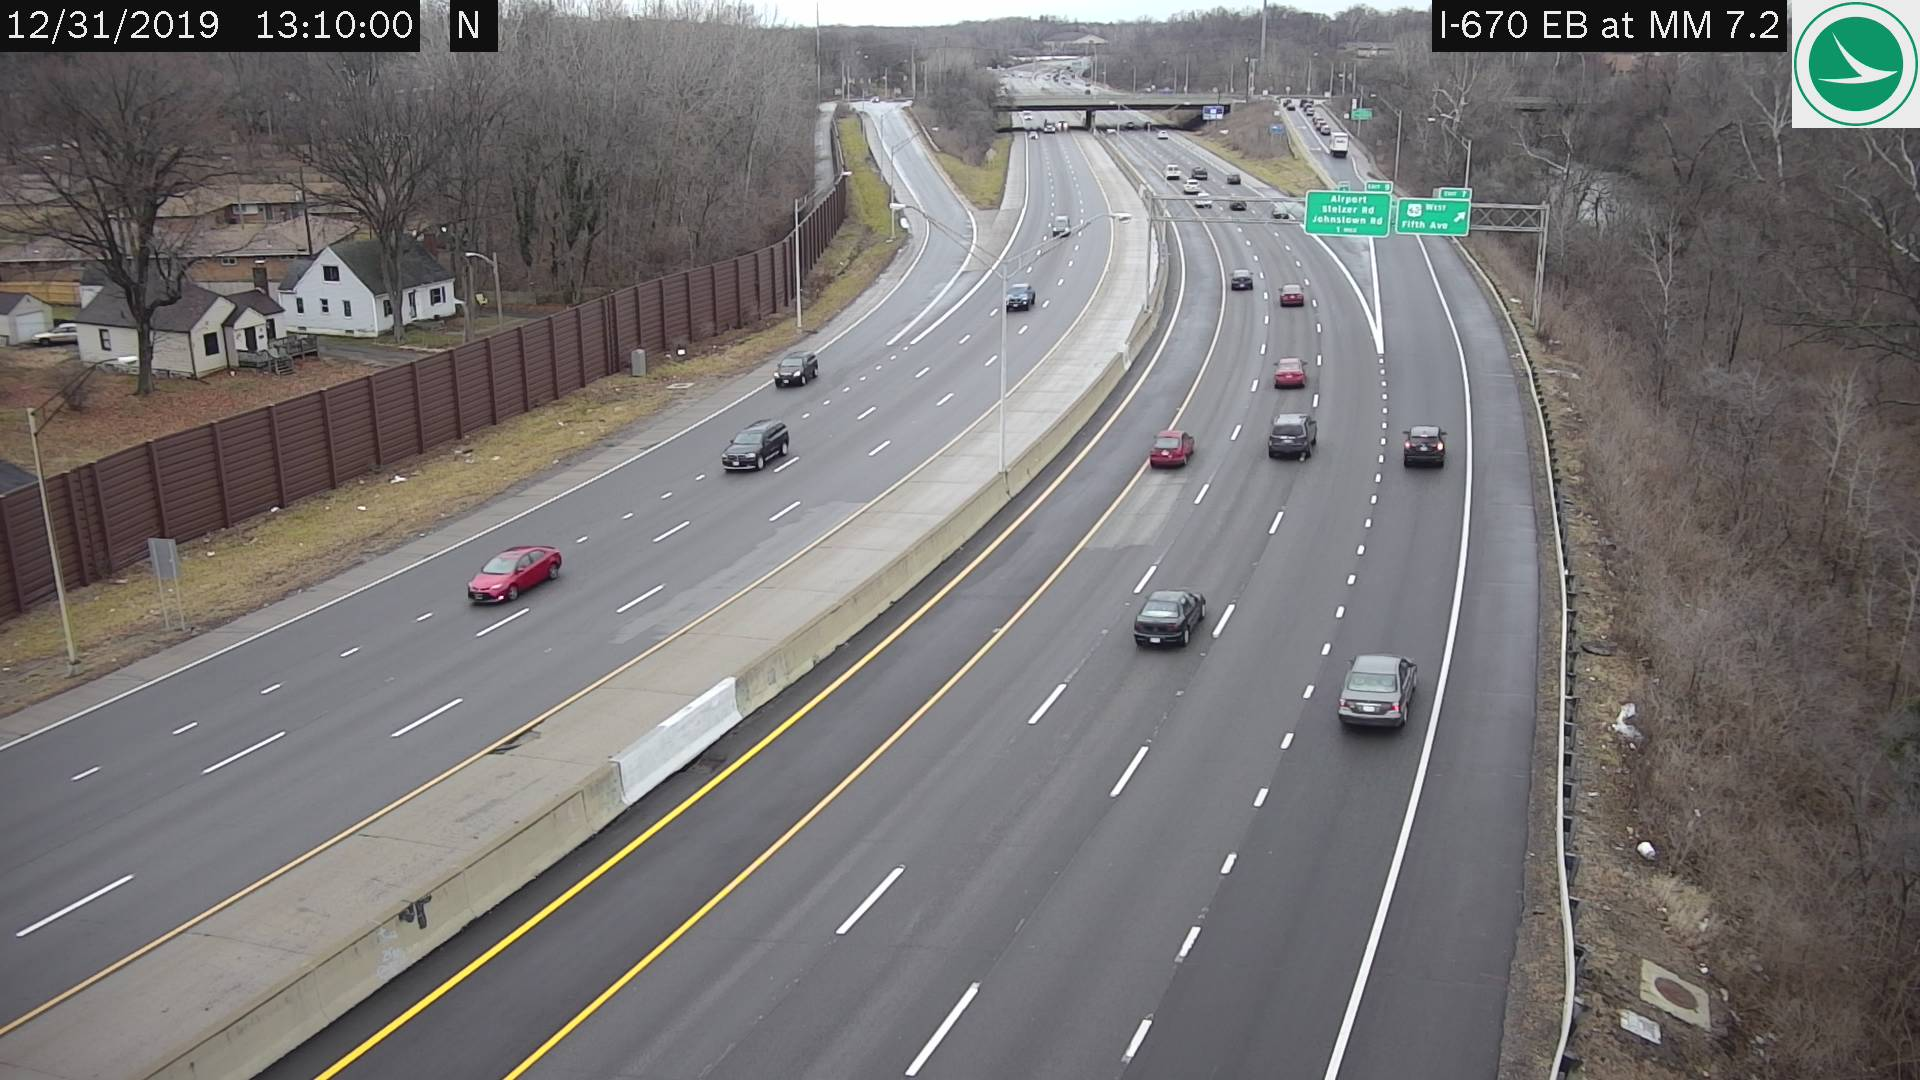car: (1338, 651, 1418, 732), (465, 542, 562, 608), (1134, 592, 1207, 651), (721, 419, 787, 469), (1266, 411, 1317, 460), (1402, 425, 1447, 468), (1150, 429, 1193, 468), (775, 349, 818, 382), (1274, 352, 1305, 388), (1005, 281, 1035, 311), (1278, 281, 1302, 305), (1230, 266, 1254, 290), (1327, 131, 1346, 156), (1050, 212, 1071, 233), (1183, 179, 1201, 191), (1225, 173, 1241, 186), (1189, 164, 1205, 177), (1273, 204, 1287, 218), (1164, 164, 1178, 175), (1230, 202, 1245, 208)
